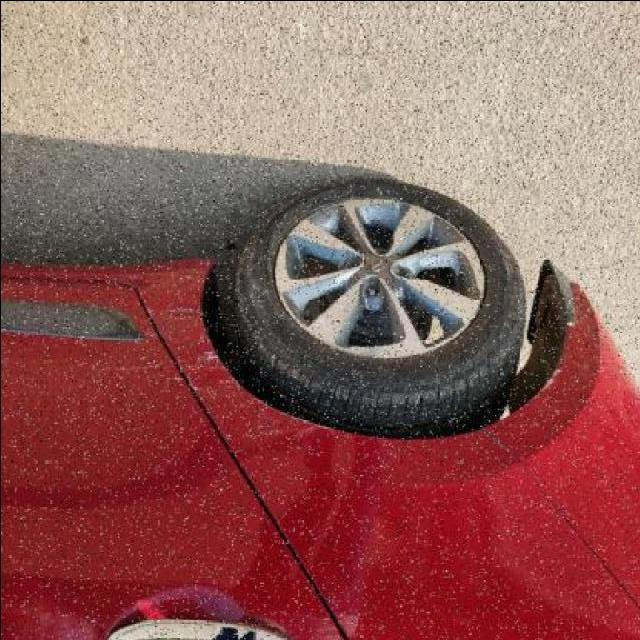quaterpanel-dent: (199, 255, 510, 639)
